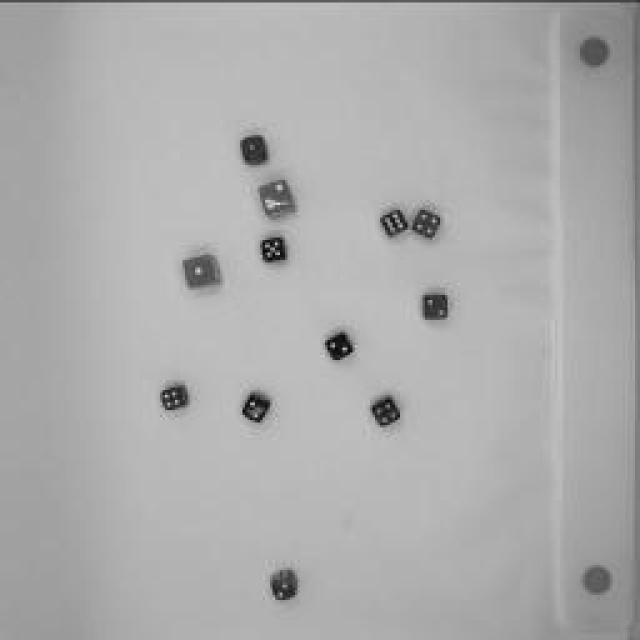dice_1: (180, 252, 222, 292), (238, 131, 270, 169)
dice_2: (255, 176, 300, 224), (268, 566, 302, 604), (322, 328, 356, 364), (240, 391, 275, 424), (419, 290, 451, 322)
dice_4: (408, 206, 444, 242), (368, 394, 404, 428), (159, 381, 191, 414)
dice_5: (259, 234, 291, 266)
dice_6: (376, 206, 409, 239)
